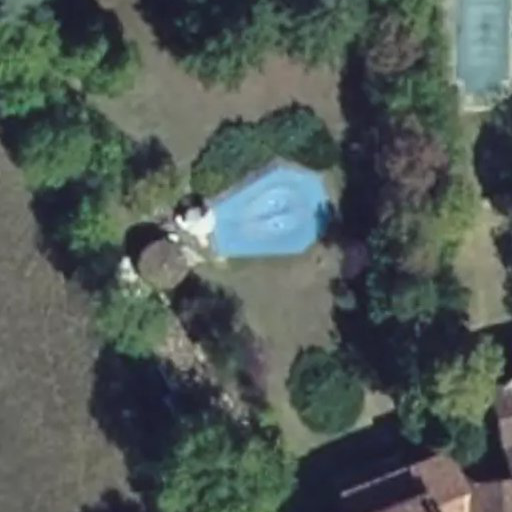pool: (187, 228, 321, 260)
